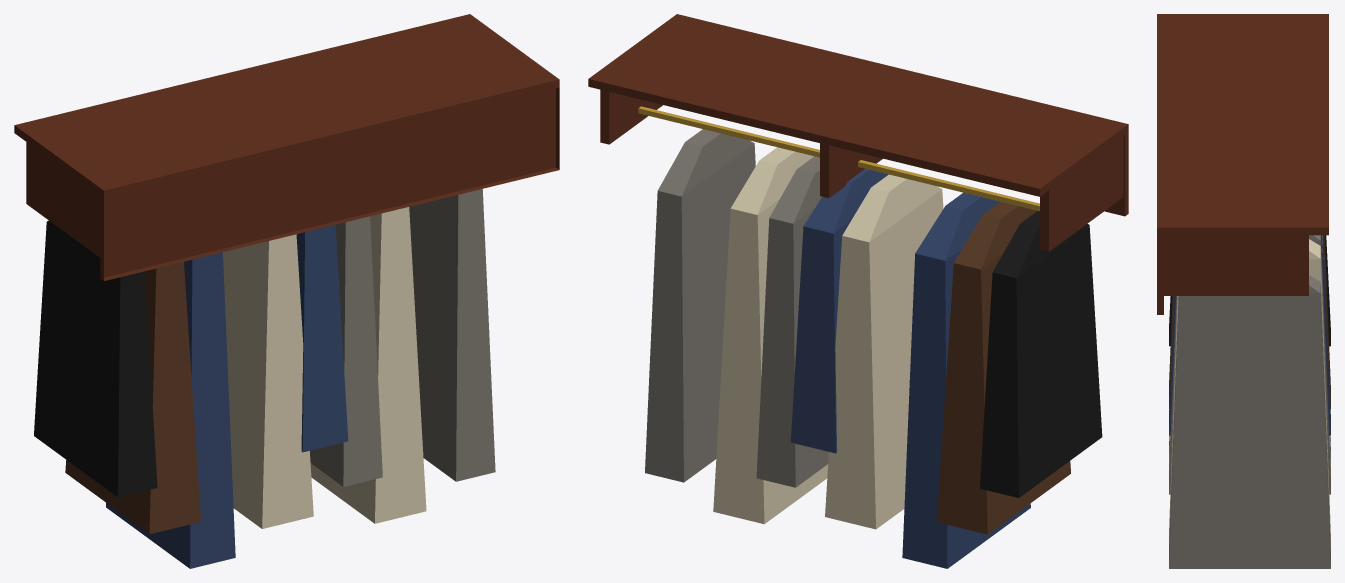
File: parametric-coat_rack-2nd.glb
3 views of the same model, side by side, from view 1: azimuth 30°, elevation 25°; view 2: azimuth 150°, elevation 25°; view 3: azimuth 270°, elevation 25° (orthographic). The views are drawn at different scales.
Visible parts, largest first — view 1: parametric-coat_rack-2nd; view 2: parametric-coat_rack-2nd; view 3: parametric-coat_rack-2nd.
Part boxes in pixels (x1,y1,x2,y2): parametric-coat_rack-2nd: (14,14,559,568); parametric-coat_rack-2nd: (588,14,1128,568); parametric-coat_rack-2nd: (1157,14,1330,568).
Bounding box in the file's own units: 1.5 × 1.27 × 0.515.
